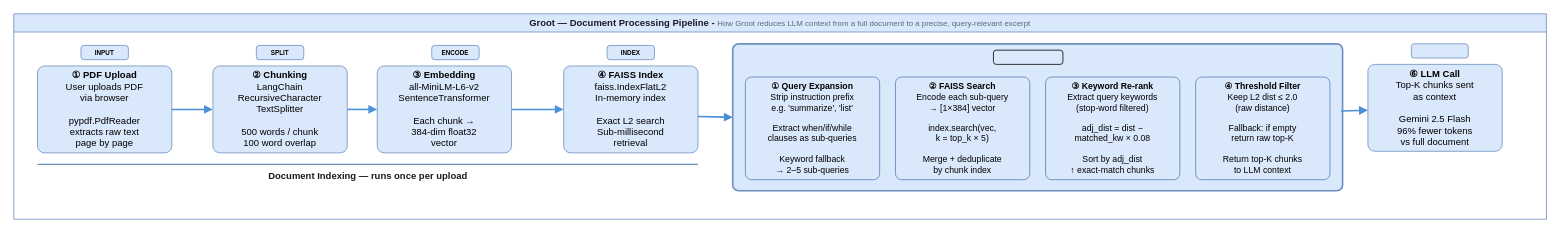
Image size: 1560x233. Some labels were removed from this diagram. Here are the shapes that lost their labels. From the top down, the centre of each, then its label:
At (x=1028, y=56): "RETRIEVE".
At (x=1439, y=50): "GENERATE".
